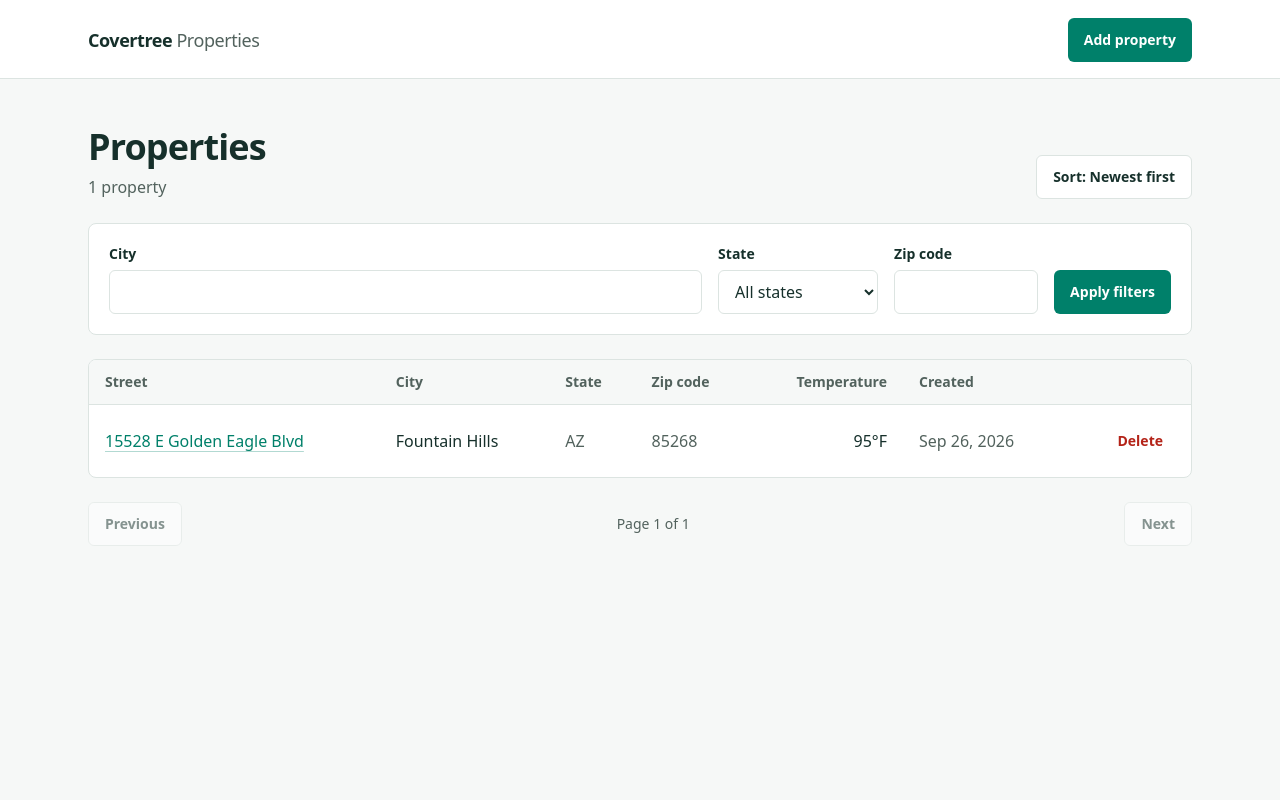
Test: PropertyListPage › delete (AC-W.6) › deletes after confirmation and refetches the list
Click the button with aria-label "Delete 15528": point(1140, 441) [1106, 421, 1175, 461]
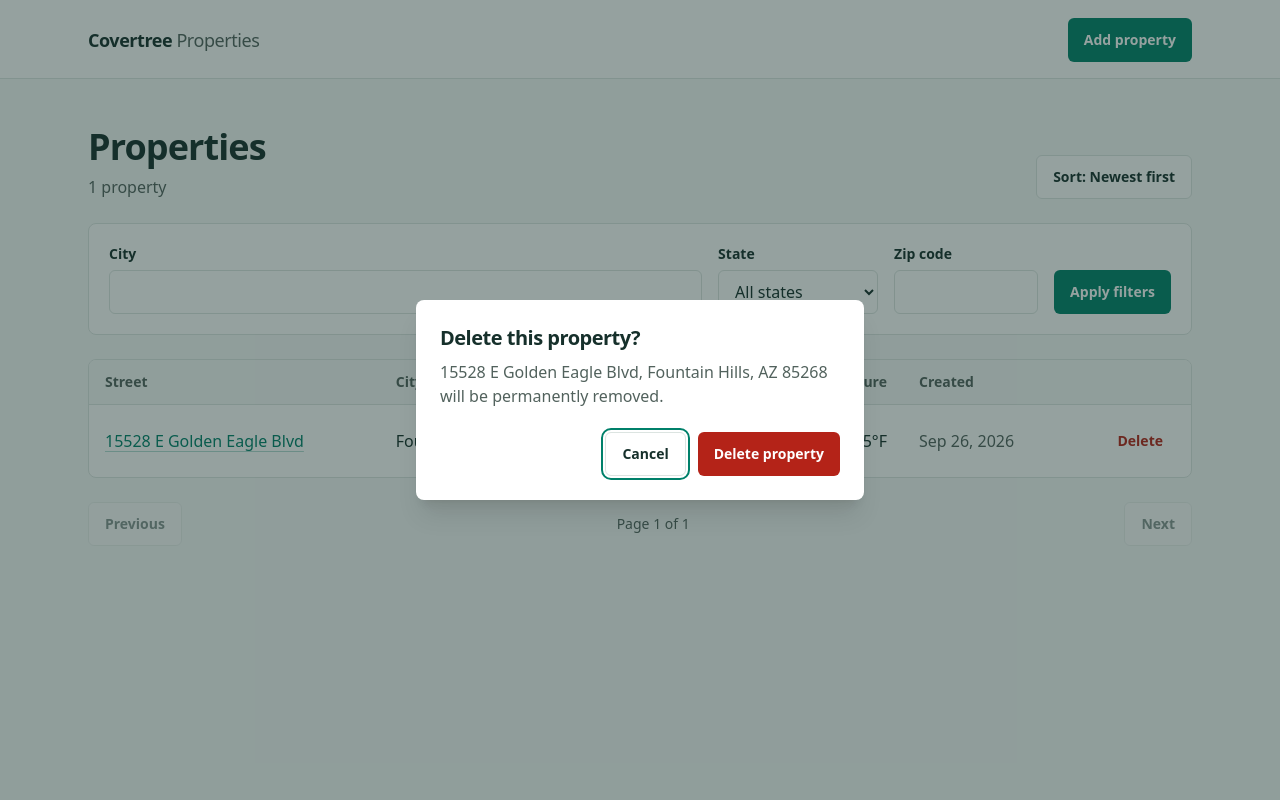
Click the button "Delete property": point(769, 454) [698, 432, 840, 476]
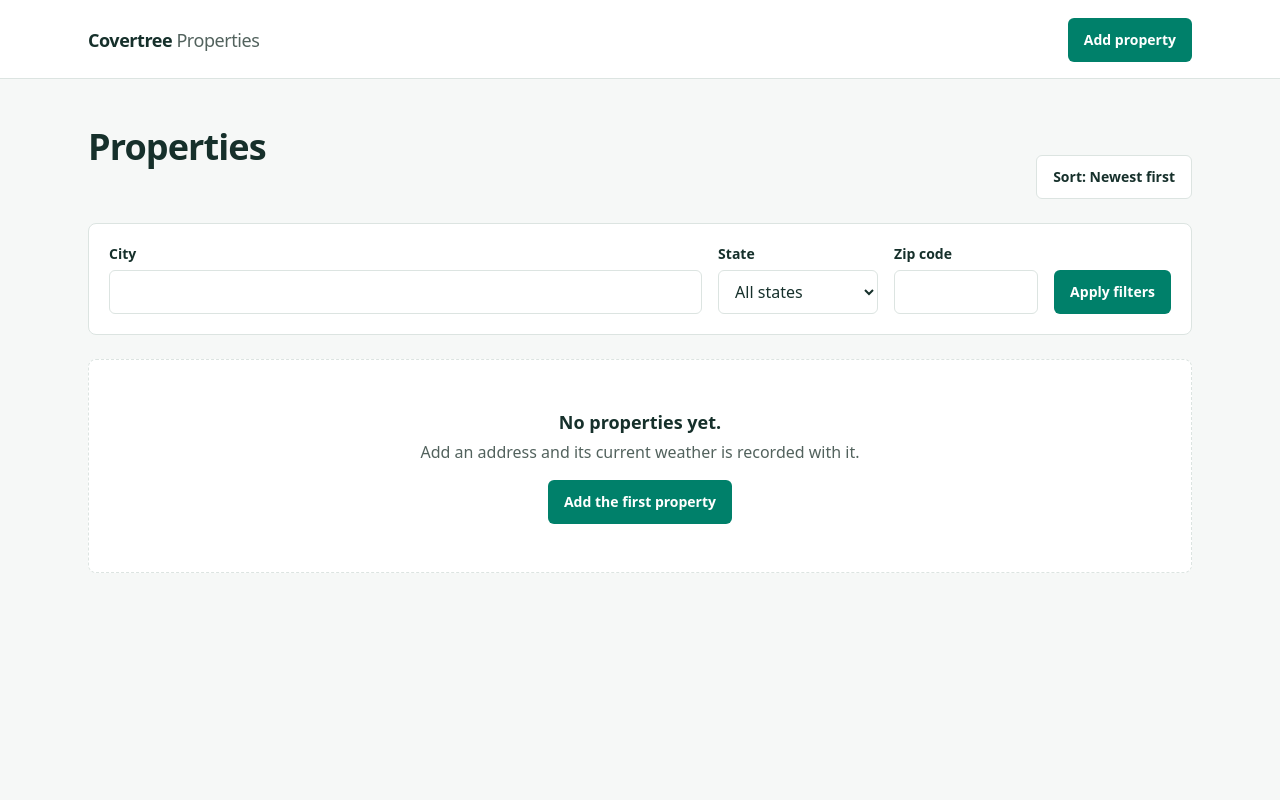
Expected: the text "No properties yet." is shown, [559, 410, 721, 434]
